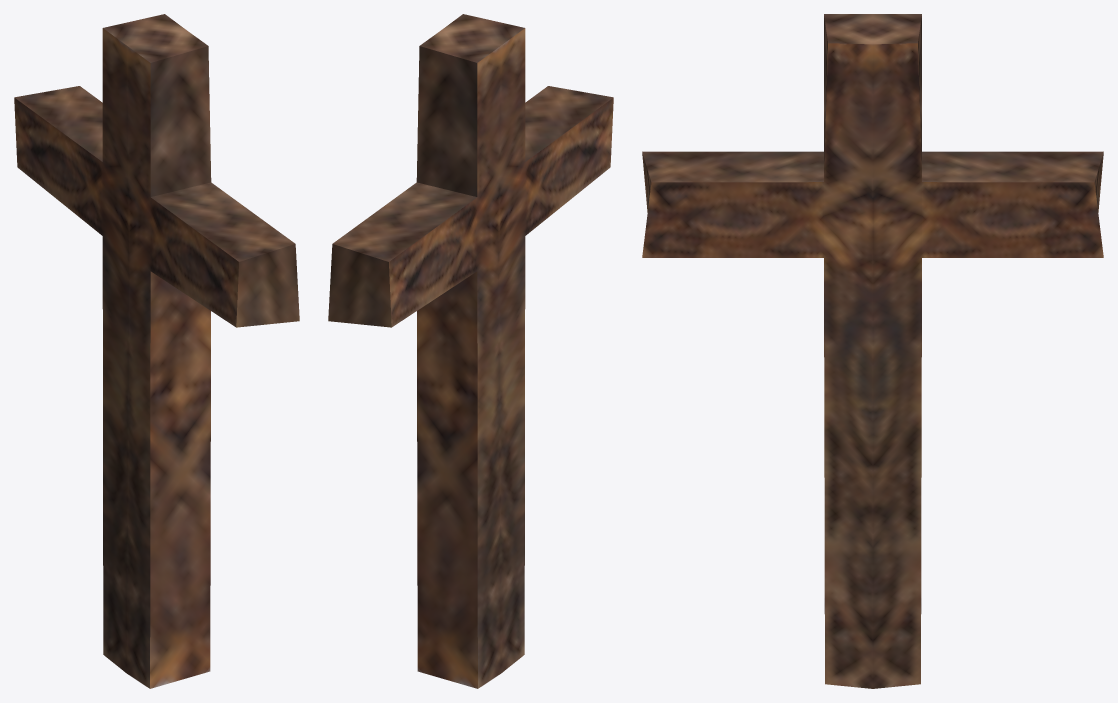
File: Crucifix.fbx
3 views of the same model, side by side, from view 1: azimuth 30°, elevation 25°; view 2: azimuth 150°, elevation 25°; view 3: azimuth 270°, elevation 25° (orthographic). The views are drawn at different scales.
Parts seen in each view (by area): view 1: Cube; view 2: Cube; view 3: Cube.
Part boxes in pixels (box(x1,y1,x2,y2)): Cube: box(14, 14, 299, 688); Cube: box(328, 14, 613, 688); Cube: box(642, 14, 1103, 688).
Bounding box in the file's own units: 65.16 × 642 × 416.
